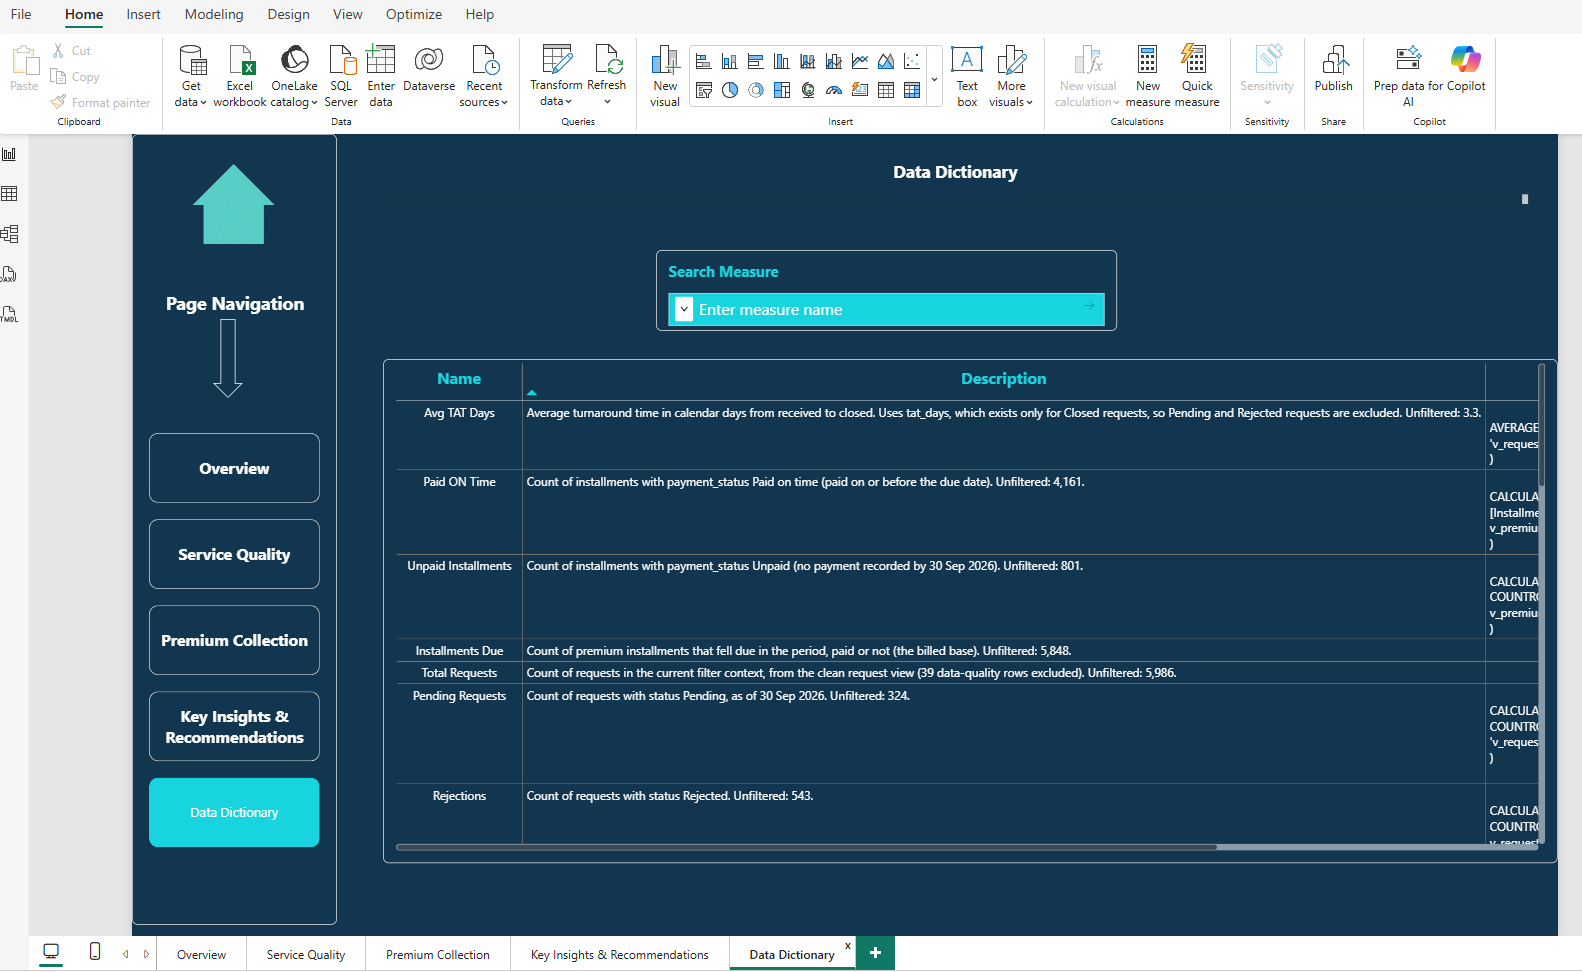

The page's visual inventory and layout, read from the dashboard file:
{"tool":"powerbi","page":{"name":"Data Dictionary","canvas":[1920,1080],"ordinal":4},"visuals":[{"type":"tableEx","fields":{"Values":["Model Measures.Name","Model Measures.Description","Model Measures.Expression"]},"box":[338,303,1582.3,678.7],"z":0},{"type":"textSlicer","title":"Search Measure","fields":{"Values":["Model Measures.Name"]},"box":[705.6,156.2,620.8,109.1],"z":1000},{"type":"shape","title":"sidebar_page3","box":[0,0,276.1,1065.2],"z":1001},{"type":"image","title":"Home_image_base","box":[22.9,4,227.6,180.4],"z":1002},{"type":"pageNavigator","box":[22.9,402.6,230.3,560.2],"z":1003},{"type":"textbox","box":[35,211.4,207.4,37.7],"z":1005},{"type":"shape","box":[109.1,249.1,40.4,106.4],"z":1006},{"type":"textbox","title":"Data Dictionary","box":[338,24.2,1541.9,70],"z":1007}]}

Visuals, with their boxes on the page's 1920x1080 design canvas (x1, y1, x2, y2). These are canvas units, not pixel positions in the 1582x972 screenshot, which may show the page scaled, cropped or inside an application window:
tableEx - Model Measures.Name x Model Measures.Description: left=338, top=303, right=1920, bottom=982
"Search Measure" textSlicer: left=706, top=156, right=1326, bottom=265
"sidebar_page3" shape: left=0, top=0, right=276, bottom=1065
"Home_image_base" image: left=23, top=4, right=250, bottom=184
pageNavigator: left=23, top=403, right=253, bottom=963
textbox: left=35, top=211, right=242, bottom=249
shape: left=109, top=249, right=150, bottom=356
"Data Dictionary" textbox: left=338, top=24, right=1880, bottom=94
